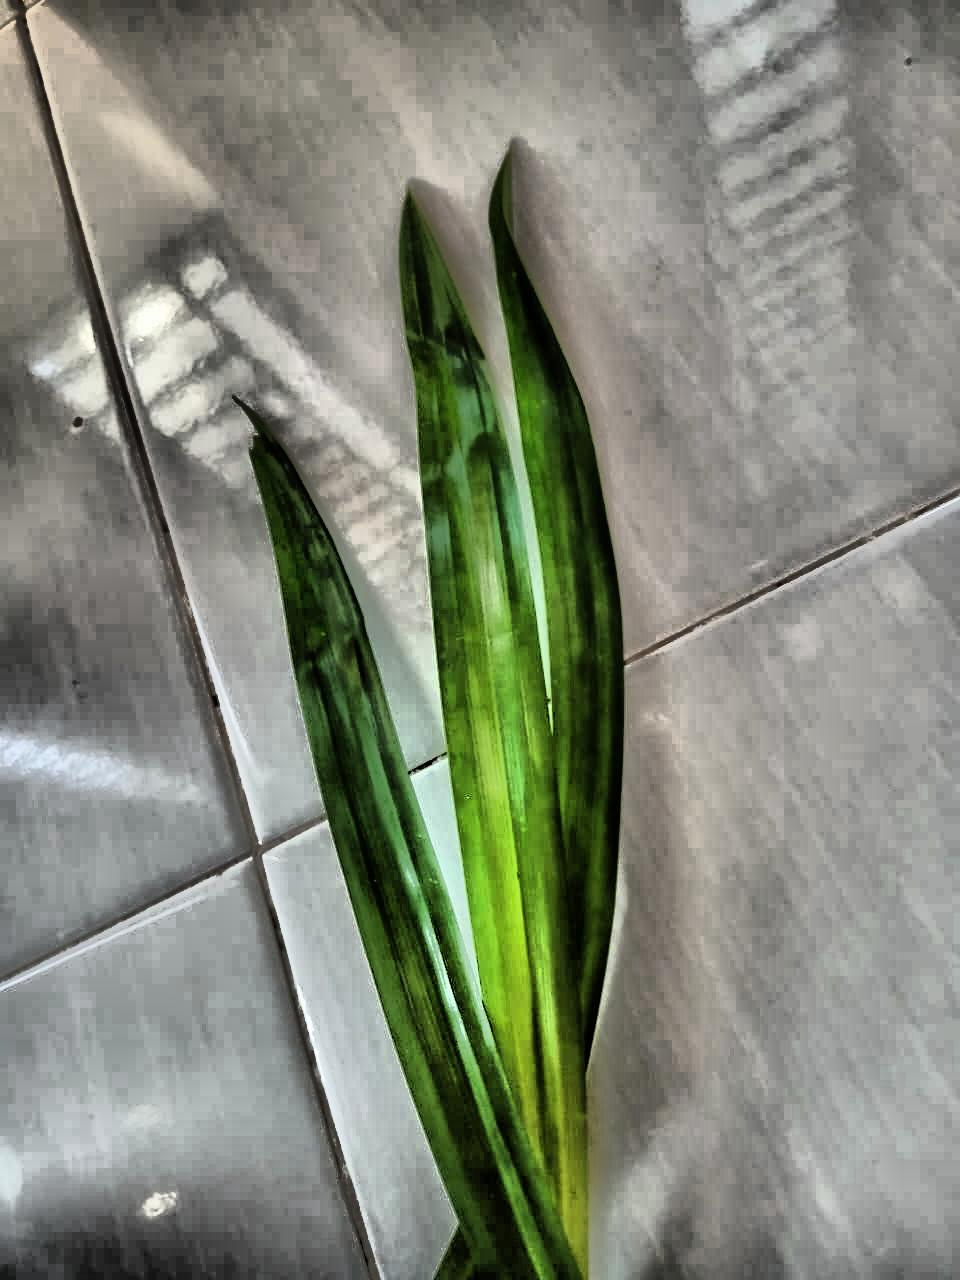daun pandan: (248, 154, 623, 1279)
